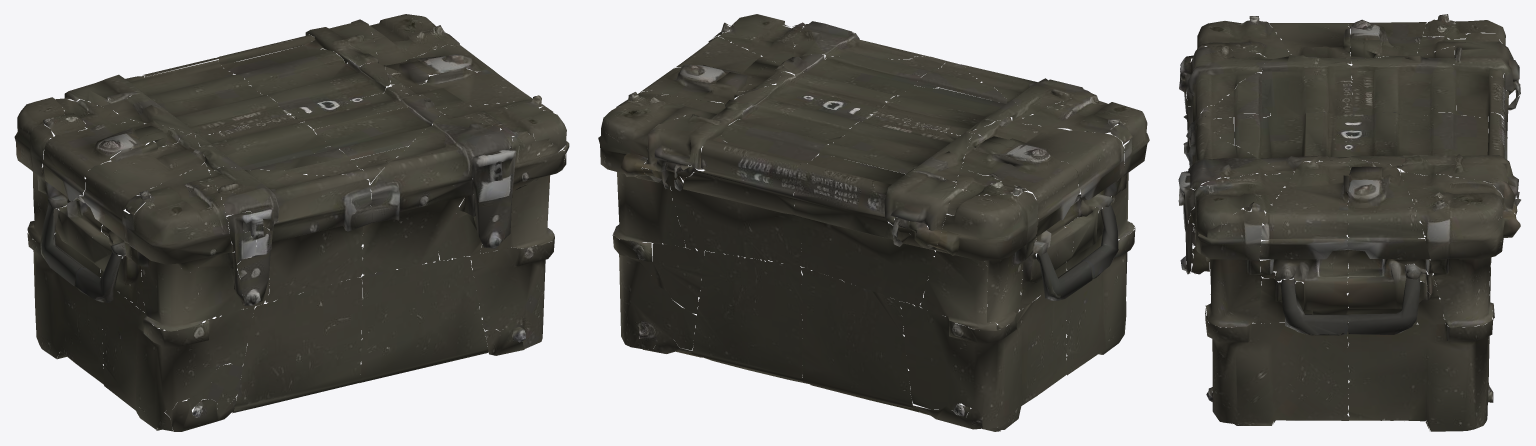
The model's file is prop_meridian_crate_LOD0.glb.
The picture shows the model from 3 angles, left to right: view 1: azimuth 30°, elevation 25°; view 2: azimuth 150°, elevation 25°; view 3: azimuth 270°, elevation 25°; orthographic projection. The views are drawn at different scales.
Visible parts, largest first — view 1: tripo_node_18f05e10-e405-4cf5-9c76-78acff66053a; view 2: tripo_node_18f05e10-e405-4cf5-9c76-78acff66053a; view 3: tripo_node_18f05e10-e405-4cf5-9c76-78acff66053a.
Part boxes in pixels (box(x1,y1,x2,y2)): tripo_node_18f05e10-e405-4cf5-9c76-78acff66053a: box(14, 14, 569, 431); tripo_node_18f05e10-e405-4cf5-9c76-78acff66053a: box(598, 14, 1149, 431); tripo_node_18f05e10-e405-4cf5-9c76-78acff66053a: box(1178, 14, 1520, 431).
Bounding box in the file's own units: 1 × 0.5368 × 0.6922.
1 material, 1 textured.
